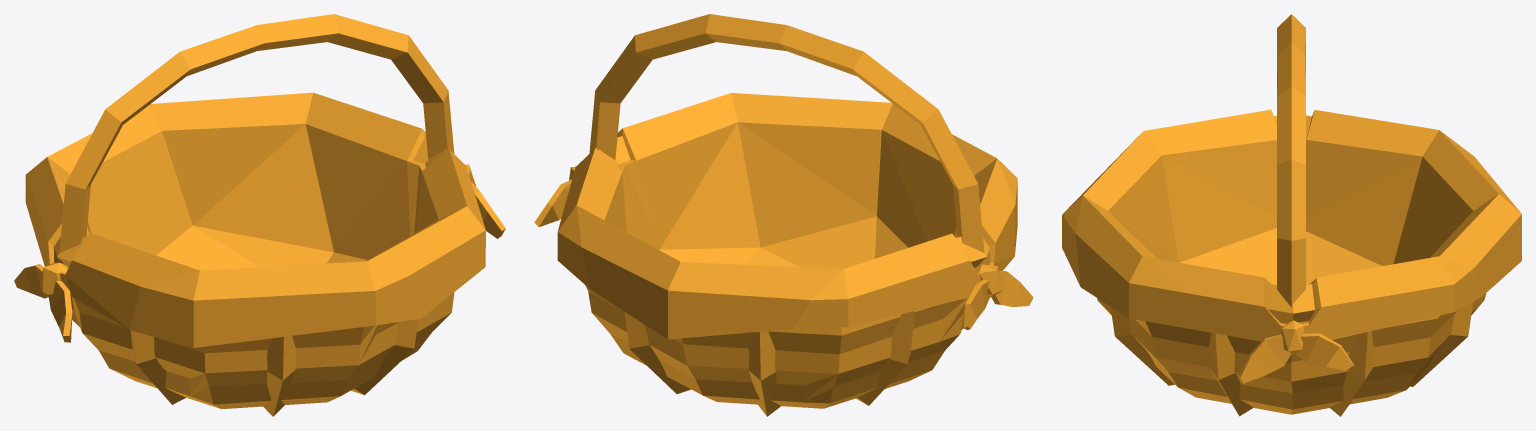
Rendered from SM_Basket_D_Farm.fbx.
The picture shows the model from 3 angles, left to right: view 1: azimuth 30°, elevation 25°; view 2: azimuth 150°, elevation 25°; view 3: azimuth 270°, elevation 25°; orthographic projection. The views are drawn at different scales.
Visible parts, largest first — view 1: basket-d-farm; view 2: basket-d-farm; view 3: basket-d-farm.
Part boxes in pixels (x1=…): basket-d-farm: x1=14, y1=14, x2=505, y2=416; basket-d-farm: x1=534, y1=14, x2=1033, y2=416; basket-d-farm: x1=1062, y1=14, x2=1521, y2=416.
Bounding box in the file's own units: 0.4674 × 0.338 × 0.4354.
